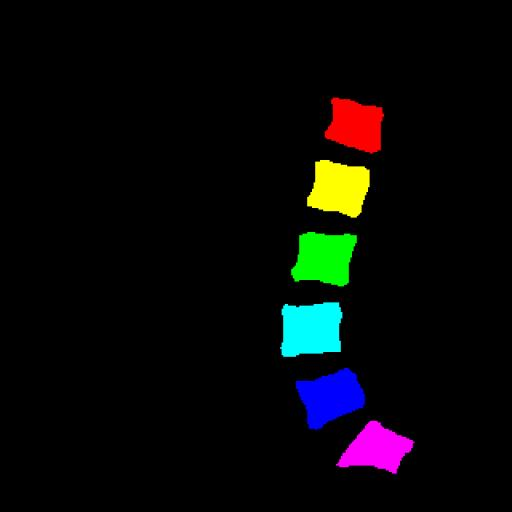L1: (325, 98, 382, 152)
L2: (307, 161, 370, 218)
L3: (291, 232, 357, 286)
L4: (281, 302, 342, 357)
L5: (296, 368, 365, 429)
S1: (336, 421, 413, 474)
